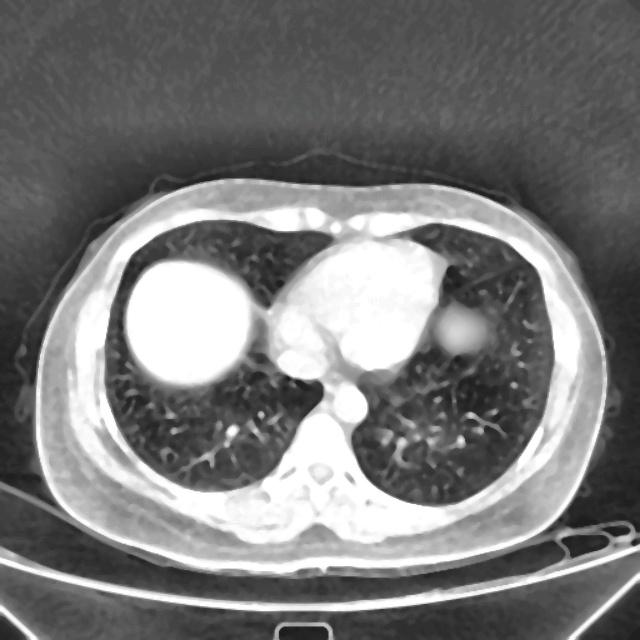covid: (28, 174, 609, 576)
